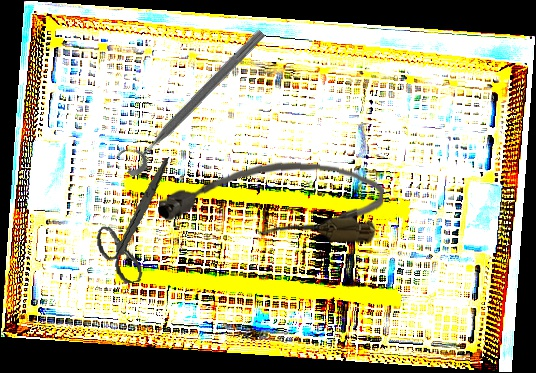Cannula: (157, 155, 385, 245)
Fixation Ring: (112, 18, 270, 180)
Iris Scissors: (85, 157, 188, 287)
